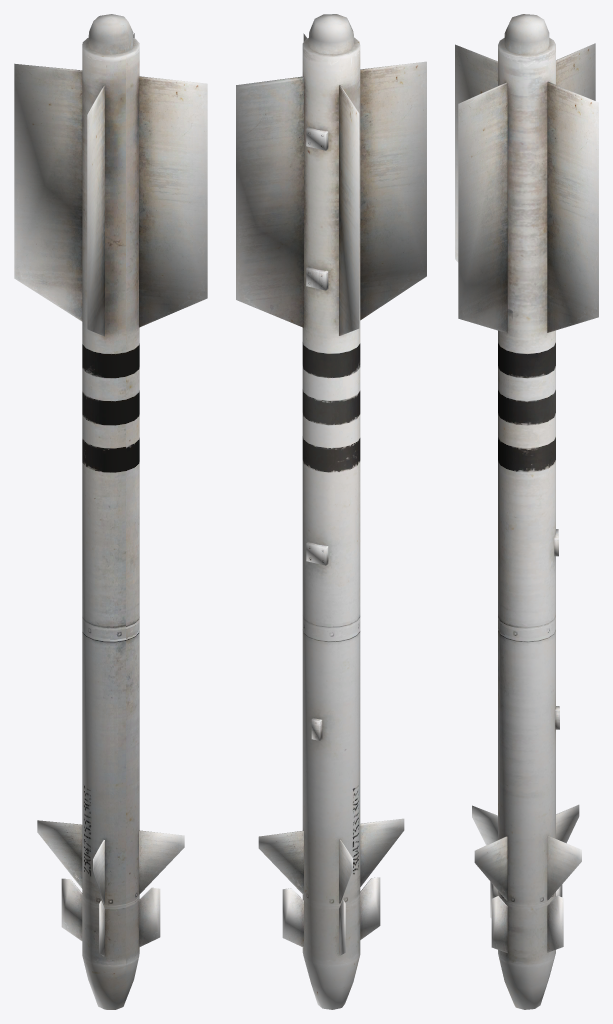
3 views of the same model, side by side, from view 1: azimuth 30°, elevation 25°; view 2: azimuth 150°, elevation 25°; view 3: azimuth 270°, elevation 25° (orthographic).
Visible parts, largest first — view 1: R-27; view 2: R-27; view 3: R-27.
Part boxes in pixels (x1,y1,x2,y2): R-27: (14, 14, 207, 1009); R-27: (236, 14, 426, 1009); R-27: (455, 14, 598, 1009).
Bounding box in the file's own units: 0.3155 × 2.4 × 0.3155.
Materials: 1 (1 with a texture image).
